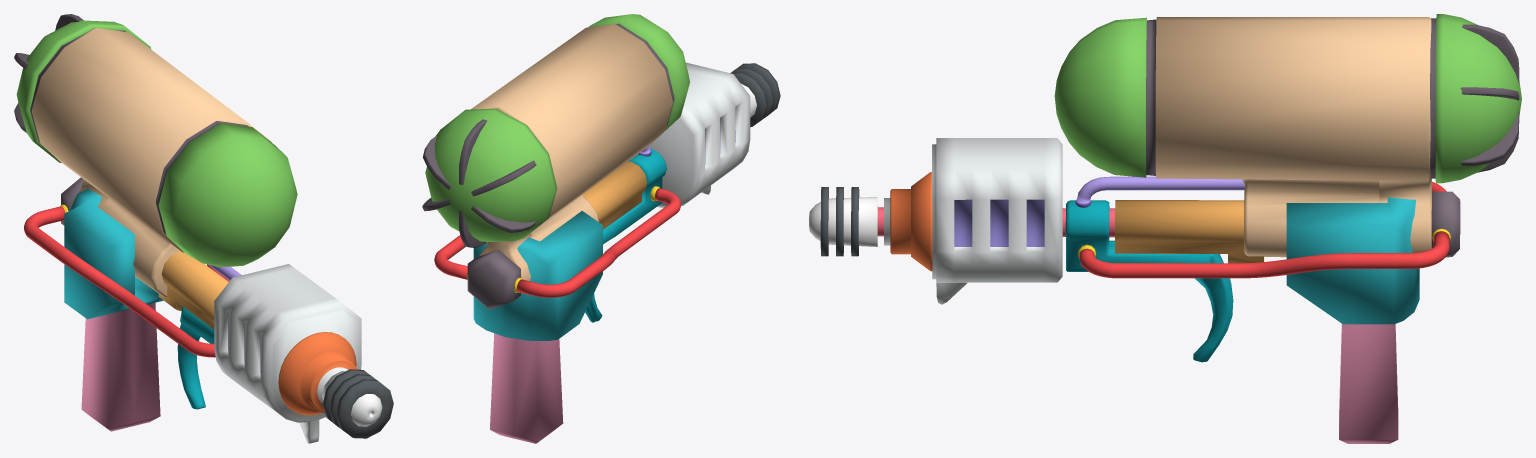
File: Watergun11.fbx
3 renders of one model, left to right at view 1: azimuth 30°, elevation 25°; view 2: azimuth 150°, elevation 25°; view 3: azimuth 270°, elevation 25°, orthographic. The views are drawn at different scales.
Parts seen in each view (by area): view 1: Watergun11; view 2: Watergun11; view 3: Watergun11.
Boxes of the visible parts, x1,y1,x2,y2 form: Watergun11: (14, 14, 393, 443); Watergun11: (422, 14, 780, 443); Watergun11: (809, 14, 1521, 443).
Size of the model in its own units: 0.1064 by 0.2514 by 0.3928.
